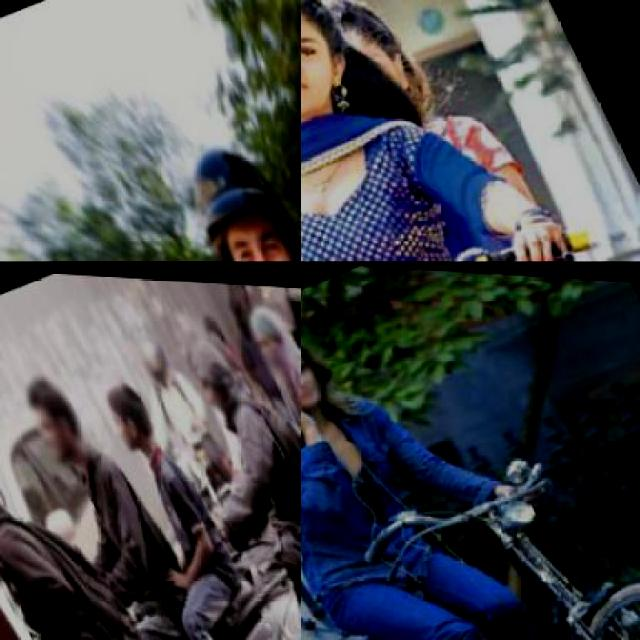With Helmet: (160, 115, 298, 260), (127, 321, 178, 384)
Without Helmet: (4, 343, 99, 471), (161, 310, 259, 432), (300, 0, 380, 145), (236, 288, 298, 375), (97, 374, 160, 454), (300, 311, 338, 426)
